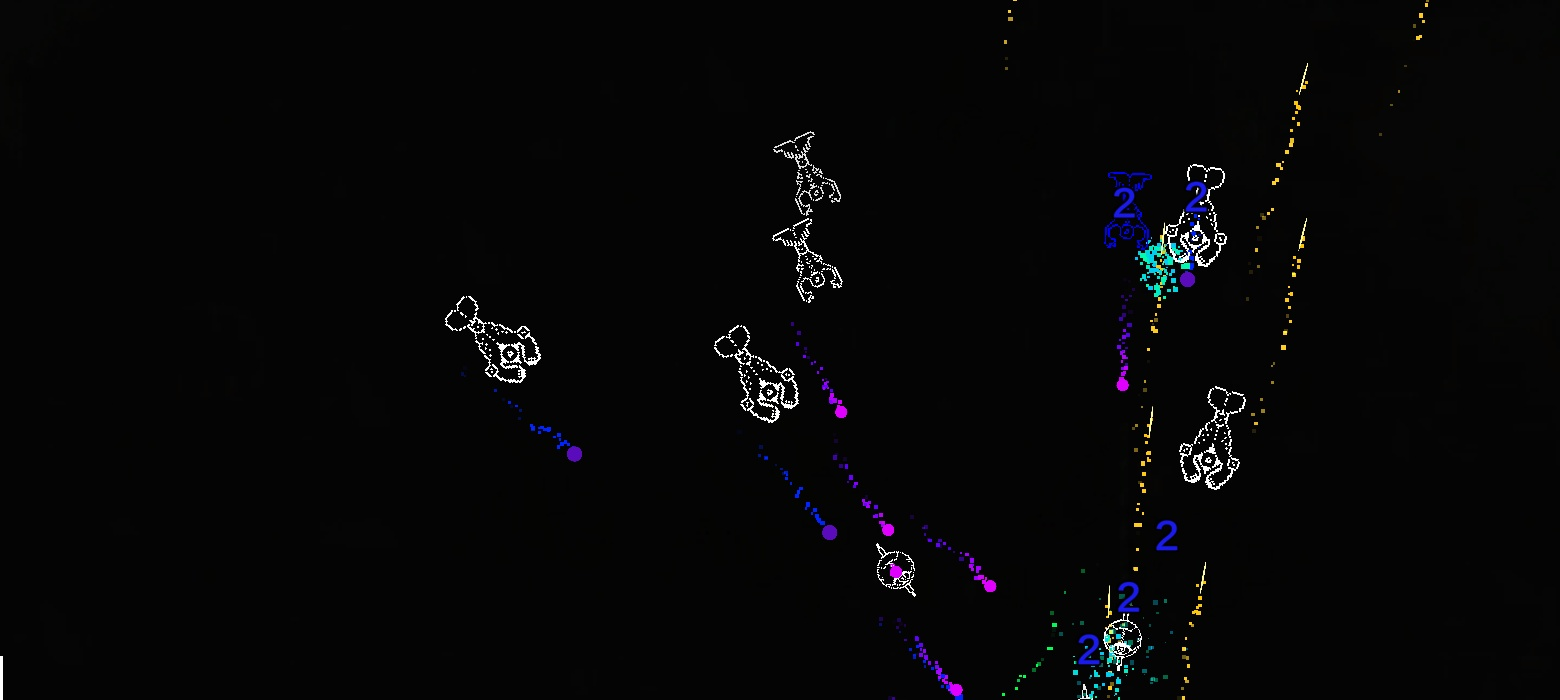enemy: (444, 295, 541, 384), (714, 325, 799, 424), (1179, 386, 1246, 490), (1166, 164, 1227, 267), (772, 218, 843, 303), (773, 131, 841, 216), (1104, 172, 1152, 250), (1104, 604, 1142, 672), (875, 543, 915, 597)
